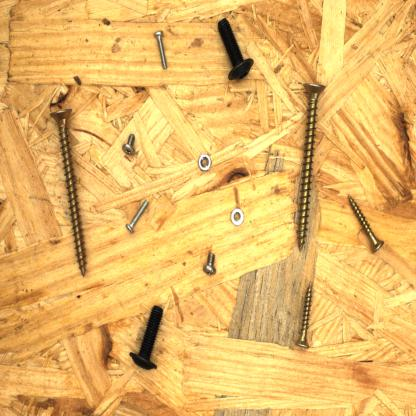screw: (45, 105, 90, 280), (293, 79, 329, 256), (344, 189, 390, 258), (214, 13, 257, 86), (126, 297, 166, 375), (292, 277, 316, 352), (122, 195, 152, 237), (151, 25, 173, 74), (199, 247, 220, 280), (118, 130, 140, 160)
